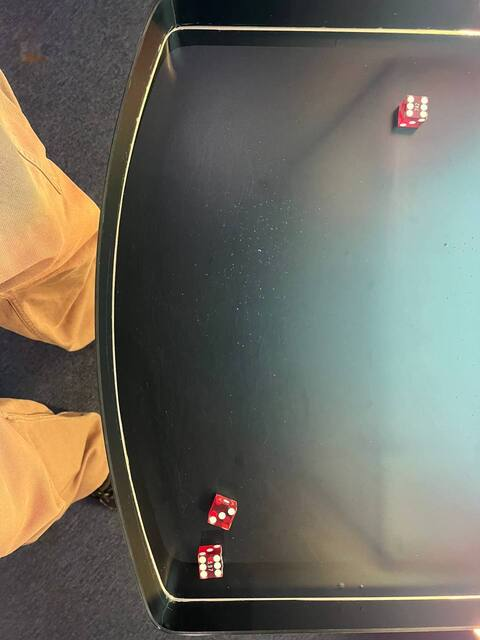six: (192, 552, 228, 582), (399, 91, 432, 122)
three: (204, 499, 239, 534)
